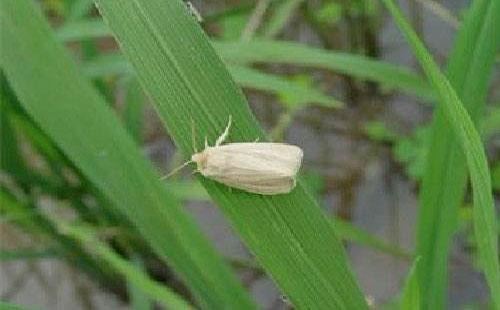Crambidae: (156, 123, 304, 199)
